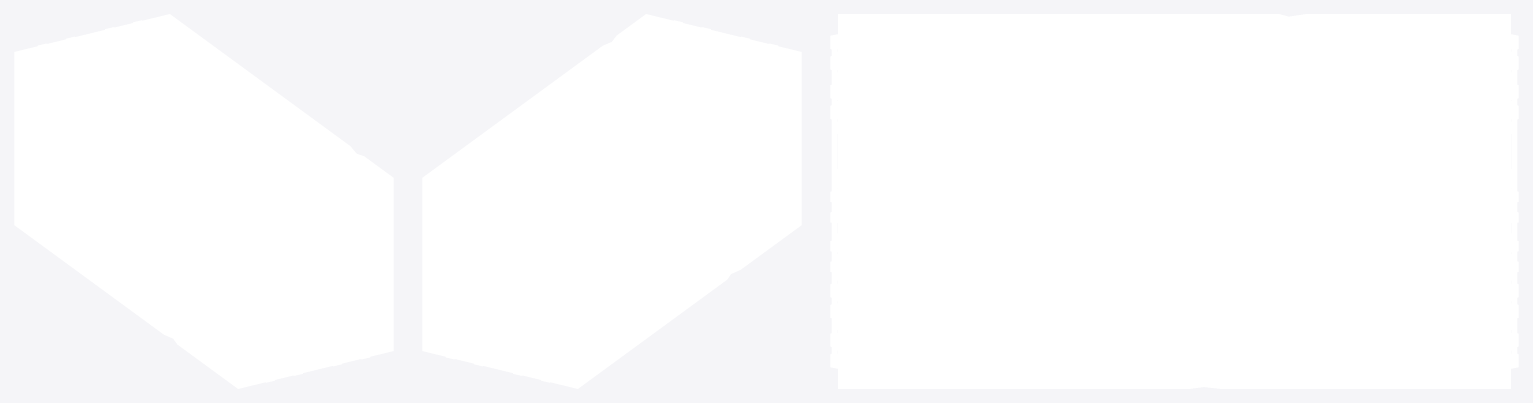
The model's file is polycontainerred.glb.
3 views of the same model, side by side, from view 1: azimuth 30°, elevation 25°; view 2: azimuth 150°, elevation 25°; view 3: azimuth 270°, elevation 25° (orthographic). The views are drawn at different scales.
Visible parts, largest first — view 1: PolyContainerRed; view 2: PolyContainerRed; view 3: PolyContainerRed.
Boxes of the visible parts, x1,y1,x2,y2 form: PolyContainerRed: (14,14,393,388); PolyContainerRed: (422,14,801,388); PolyContainerRed: (830,14,1518,388).
Bounding box in the file's own units: 2.45 × 2.61 × 6.19.
1 material, 1 textured.
